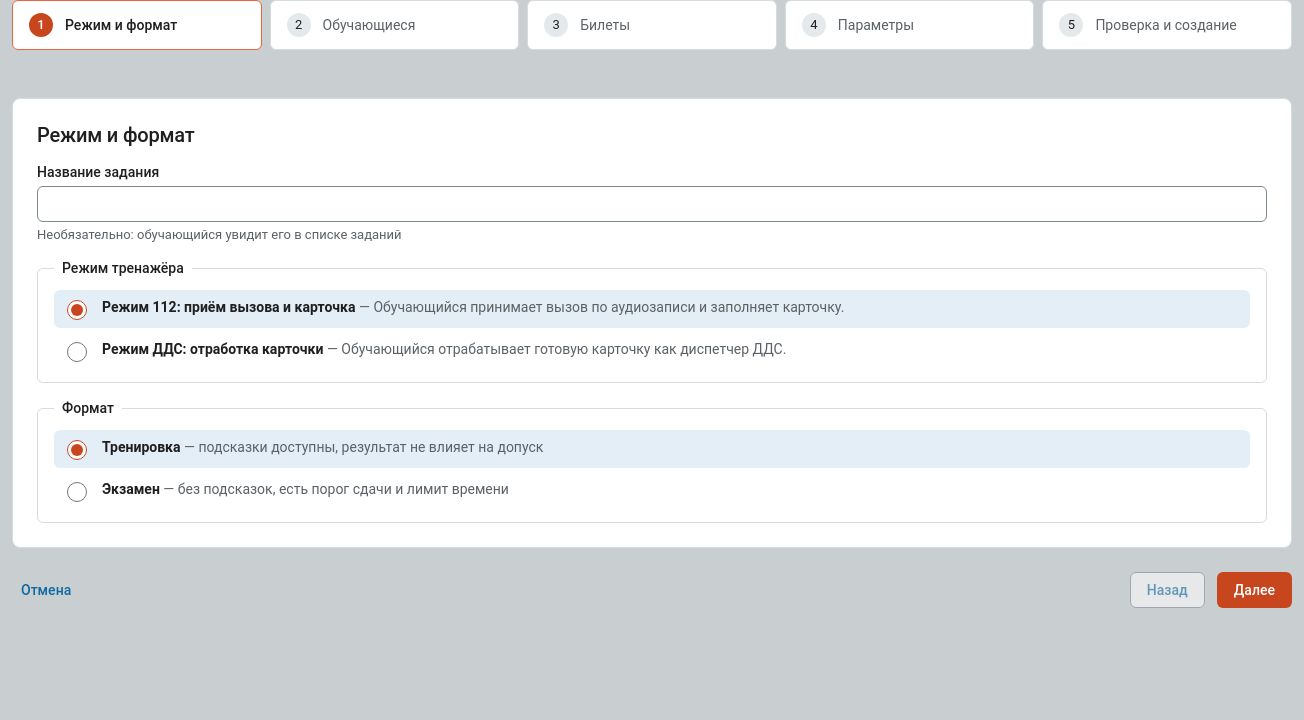
Test: мастер назначения › operator112: раздел «Сценарии с графом» показывает только опубликованные с графом этого режима
This screenshot has width=1304, height=720.
Click the button "Далее" at (1254, 590), box [1217,572,1292,608]
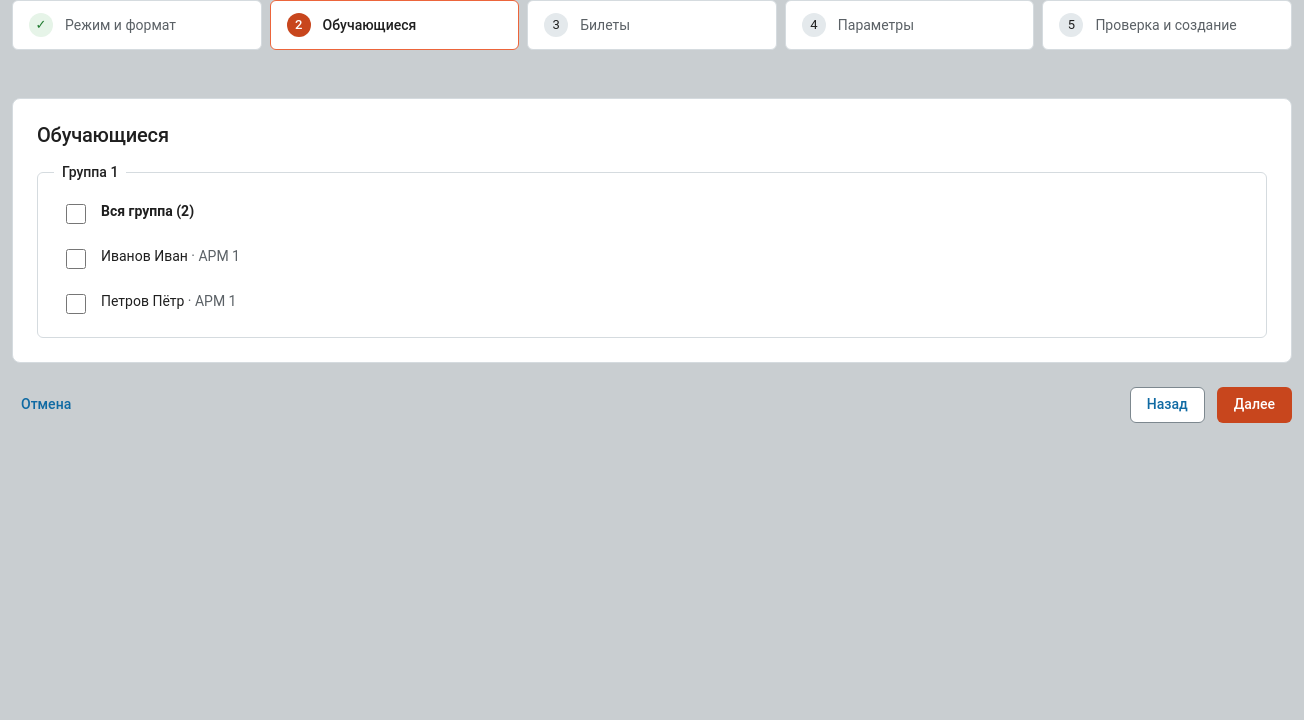
Click the checkbox labelled "Иванов Иван · АРМ 1" at (76, 259), box [66,249,86,269]
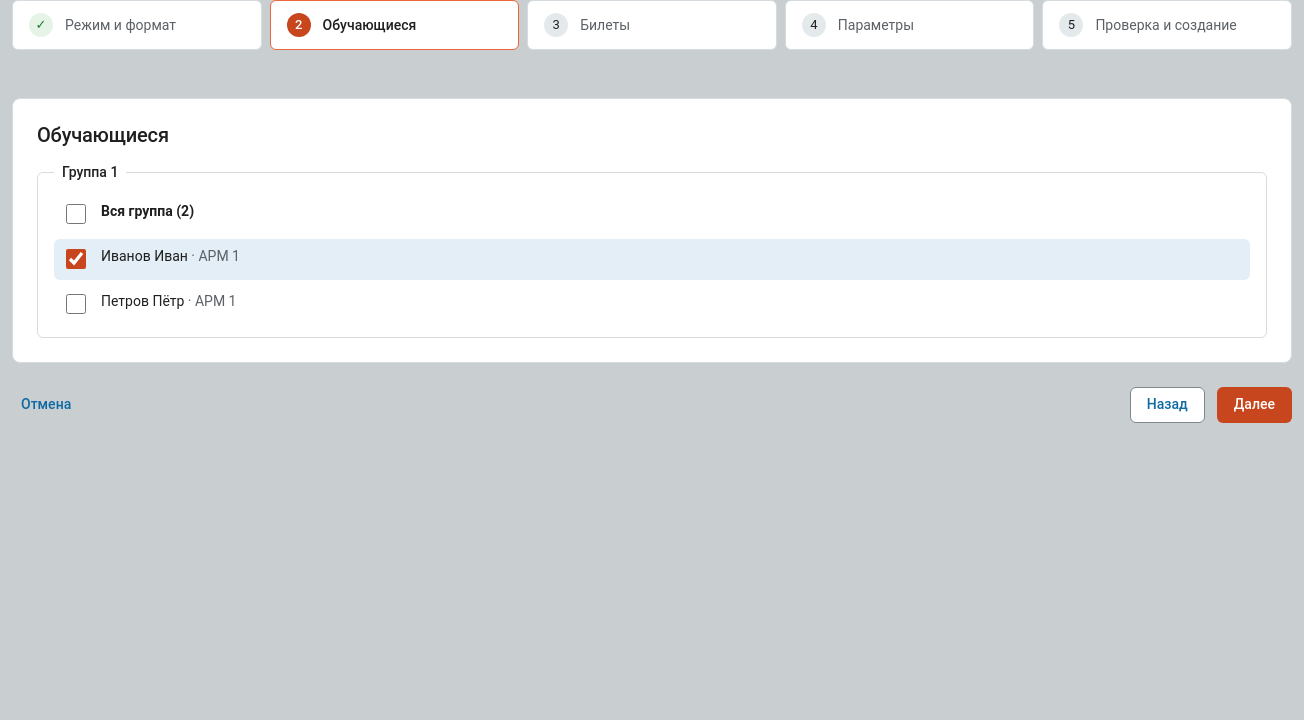
Click the button "Далее" at (1254, 405), box [1217,387,1292,423]
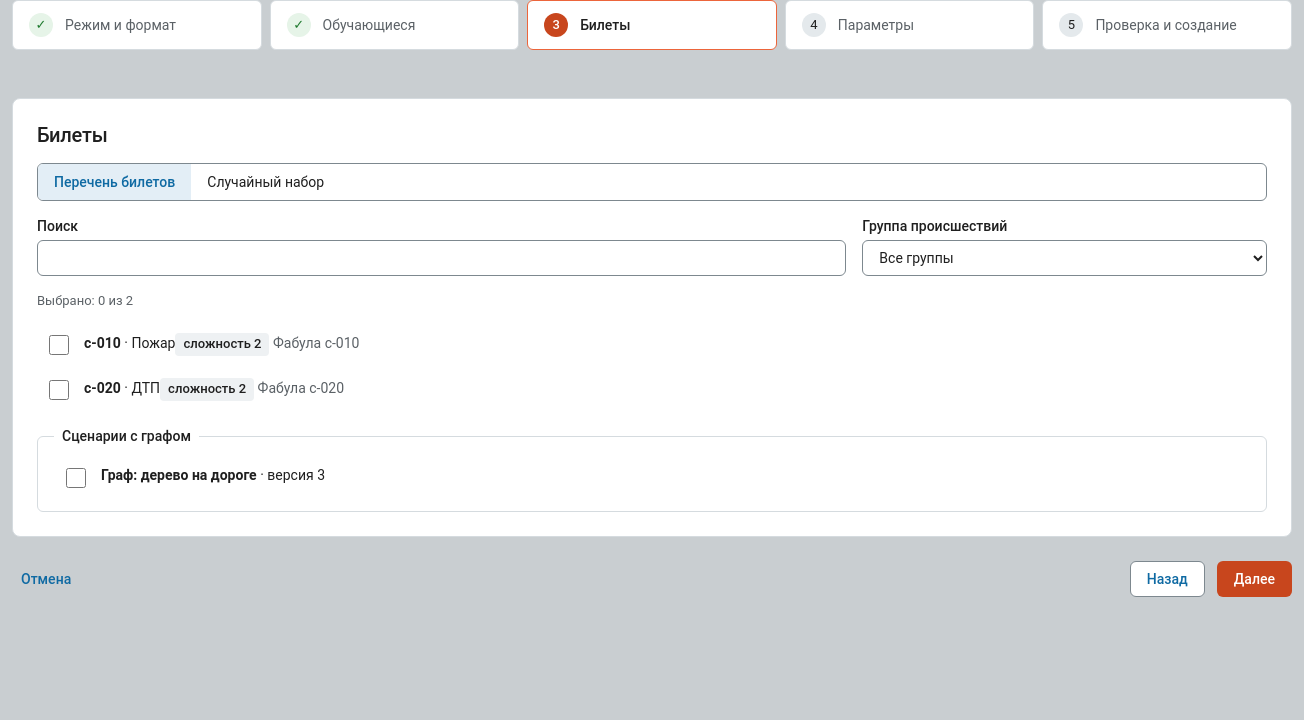
Now the checkbox labelled "Граф: дерево на дороге · версия 3" is shown, box [66,468,86,488]
Now the text "Сценарии с графом" is shown, box [54,427,199,446]
